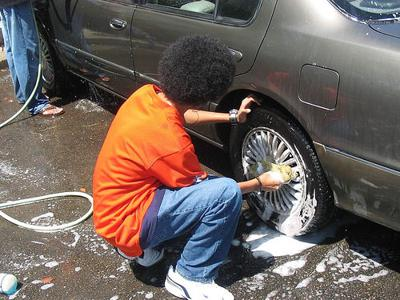person: (89, 30, 296, 299)
